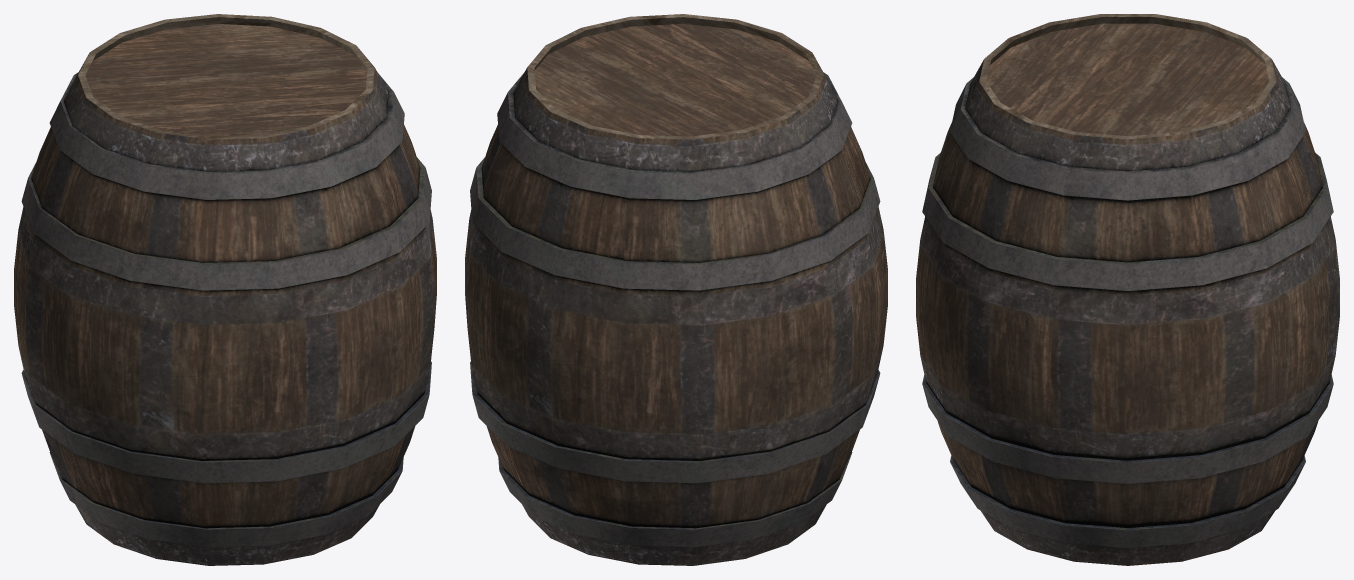
File: Barrel.fbx
The picture shows the model from 3 angles, left to right: view 1: azimuth 30°, elevation 25°; view 2: azimuth 150°, elevation 25°; view 3: azimuth 270°, elevation 25°; orthographic projection.
Visible parts, largest first — view 1: hjtr6.008, hjtr6.007, hjtr6.002, hjtr6.009, hjtr6, hjtr6.010, hjtr6.005, hjtr6.004, hjtr6.012, hjtr6.003, hjtr6.006, hjtr6.013; view 2: hjtr6.009, hjtr6.010, hjtr6.002, hjtr6.006, hjtr6.005, hjtr6.004, hjtr6.003, hjtr6.008, hjtr6.013; view 3: hjtr6.007, hjtr6.009, hjtr6.008, hjtr6.002, hjtr6, hjtr6.010, hjtr6.005, hjtr6.004, hjtr6.003, hjtr6.012, hjtr6.006, hjtr6.011.
Boxes of the visible parts, x1,y1,x2,y2 form: hjtr6.008: [159, 38, 429, 333]; hjtr6.007: [147, 210, 436, 443]; hjtr6.002: [85, 24, 367, 136]; hjtr6.009: [14, 159, 159, 444]; hjtr6: [147, 381, 427, 565]; hjtr6.010: [37, 14, 340, 308]; hjtr6.005: [49, 72, 404, 199]; hjtr6.004: [21, 361, 431, 483]; hjtr6.012: [163, 157, 431, 290]; hjtr6.003: [49, 452, 403, 547]; hjtr6.006: [42, 430, 161, 559]; hjtr6.013: [42, 210, 169, 285]; hjtr6.009: [465, 157, 887, 500]; hjtr6.010: [485, 54, 880, 232]; hjtr6.002: [534, 24, 816, 136]; hjtr6.006: [488, 368, 878, 565]; hjtr6.005: [497, 72, 852, 199]; hjtr6.004: [470, 361, 880, 483]; hjtr6.003: [498, 452, 852, 547]; hjtr6.008: [538, 14, 826, 78]; hjtr6.013: [826, 163, 880, 233]; hjtr6.007: [916, 250, 1207, 478]; hjtr6.009: [1183, 122, 1339, 477]; hjtr6.008: [918, 36, 1183, 293]; hjtr6.002: [986, 23, 1269, 135]; hjtr6: [920, 356, 1205, 565]; hjtr6.010: [1013, 14, 1307, 249]; hjtr6.005: [950, 77, 1305, 200]; hjtr6.004: [922, 375, 1333, 483]; hjtr6.003: [950, 456, 1305, 547]; hjtr6.012: [922, 152, 1159, 286]; hjtr6.006: [1192, 432, 1314, 558]; hjtr6.011: [1077, 258, 1193, 291].
Size of the model in its own units: 54.21 by 60.48 by 54.44.
1 material, 1 textured.
